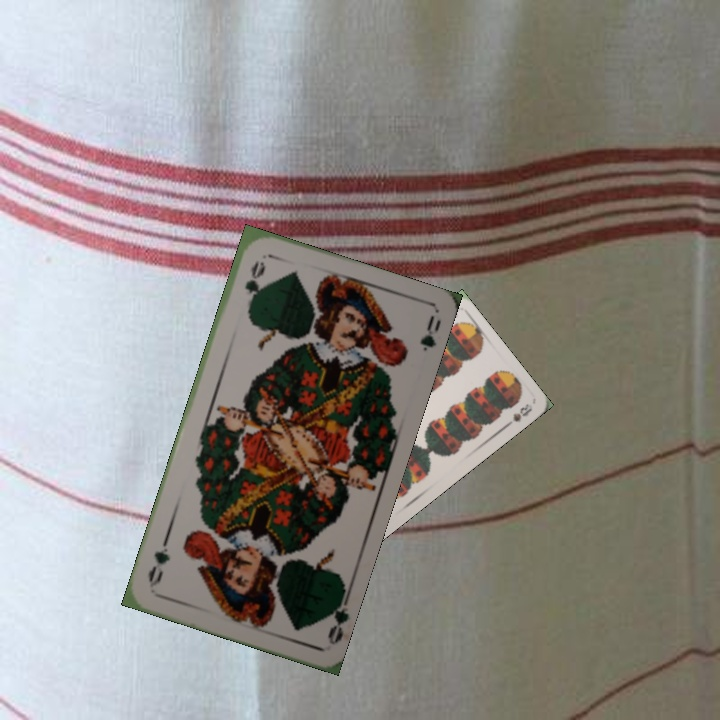GO: (319, 588, 353, 647), (240, 257, 268, 313)
